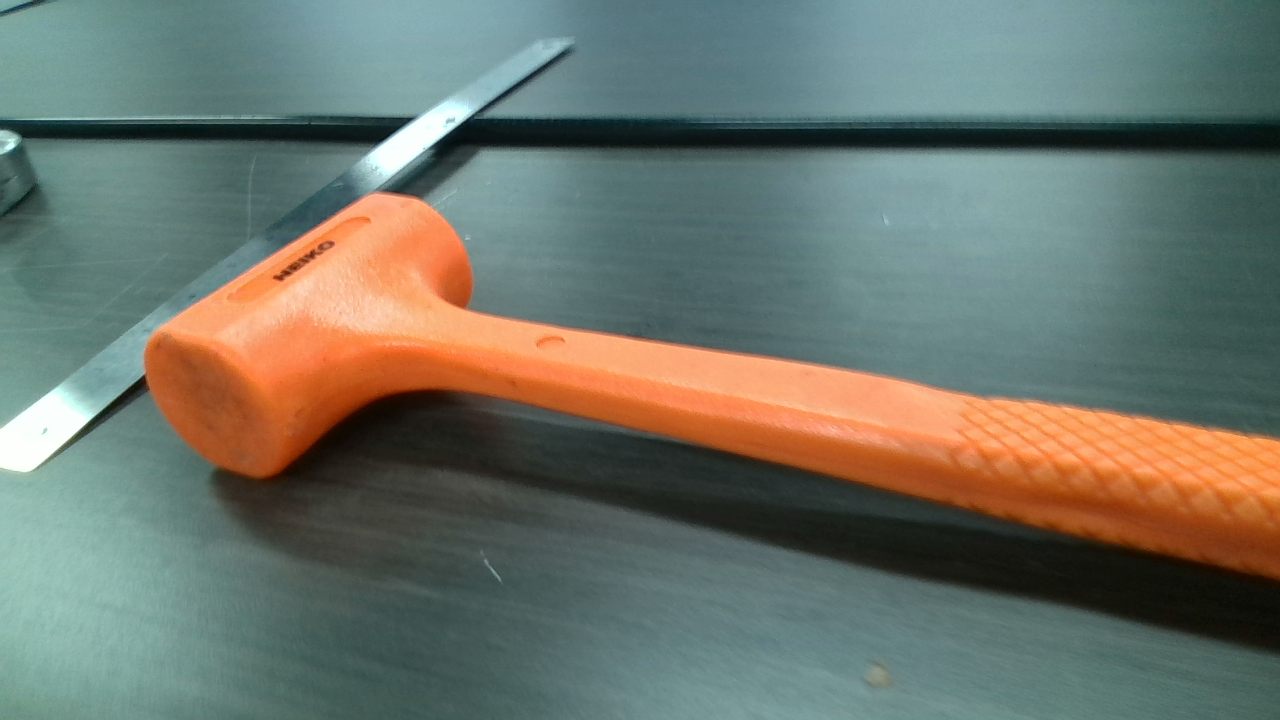Orange Hammer: (110, 184, 1276, 619)
